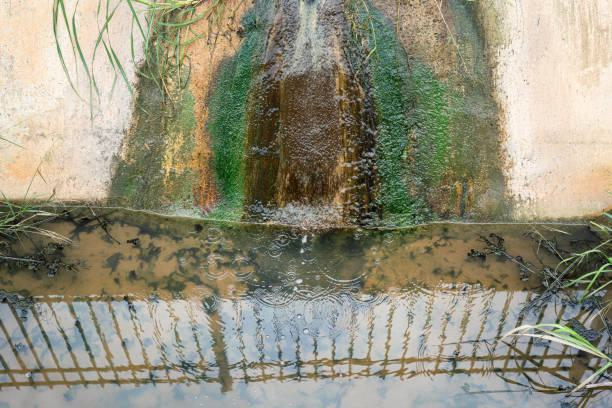Corrosion: (104, 1, 516, 230)
